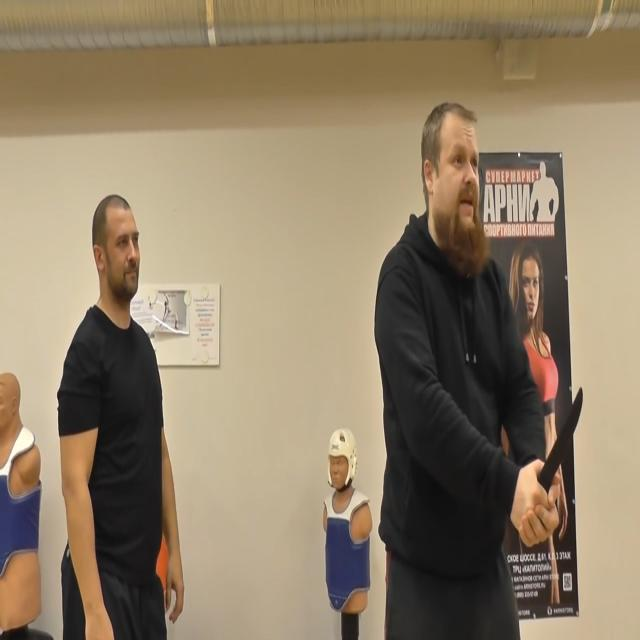knife: (538, 384, 587, 496)
